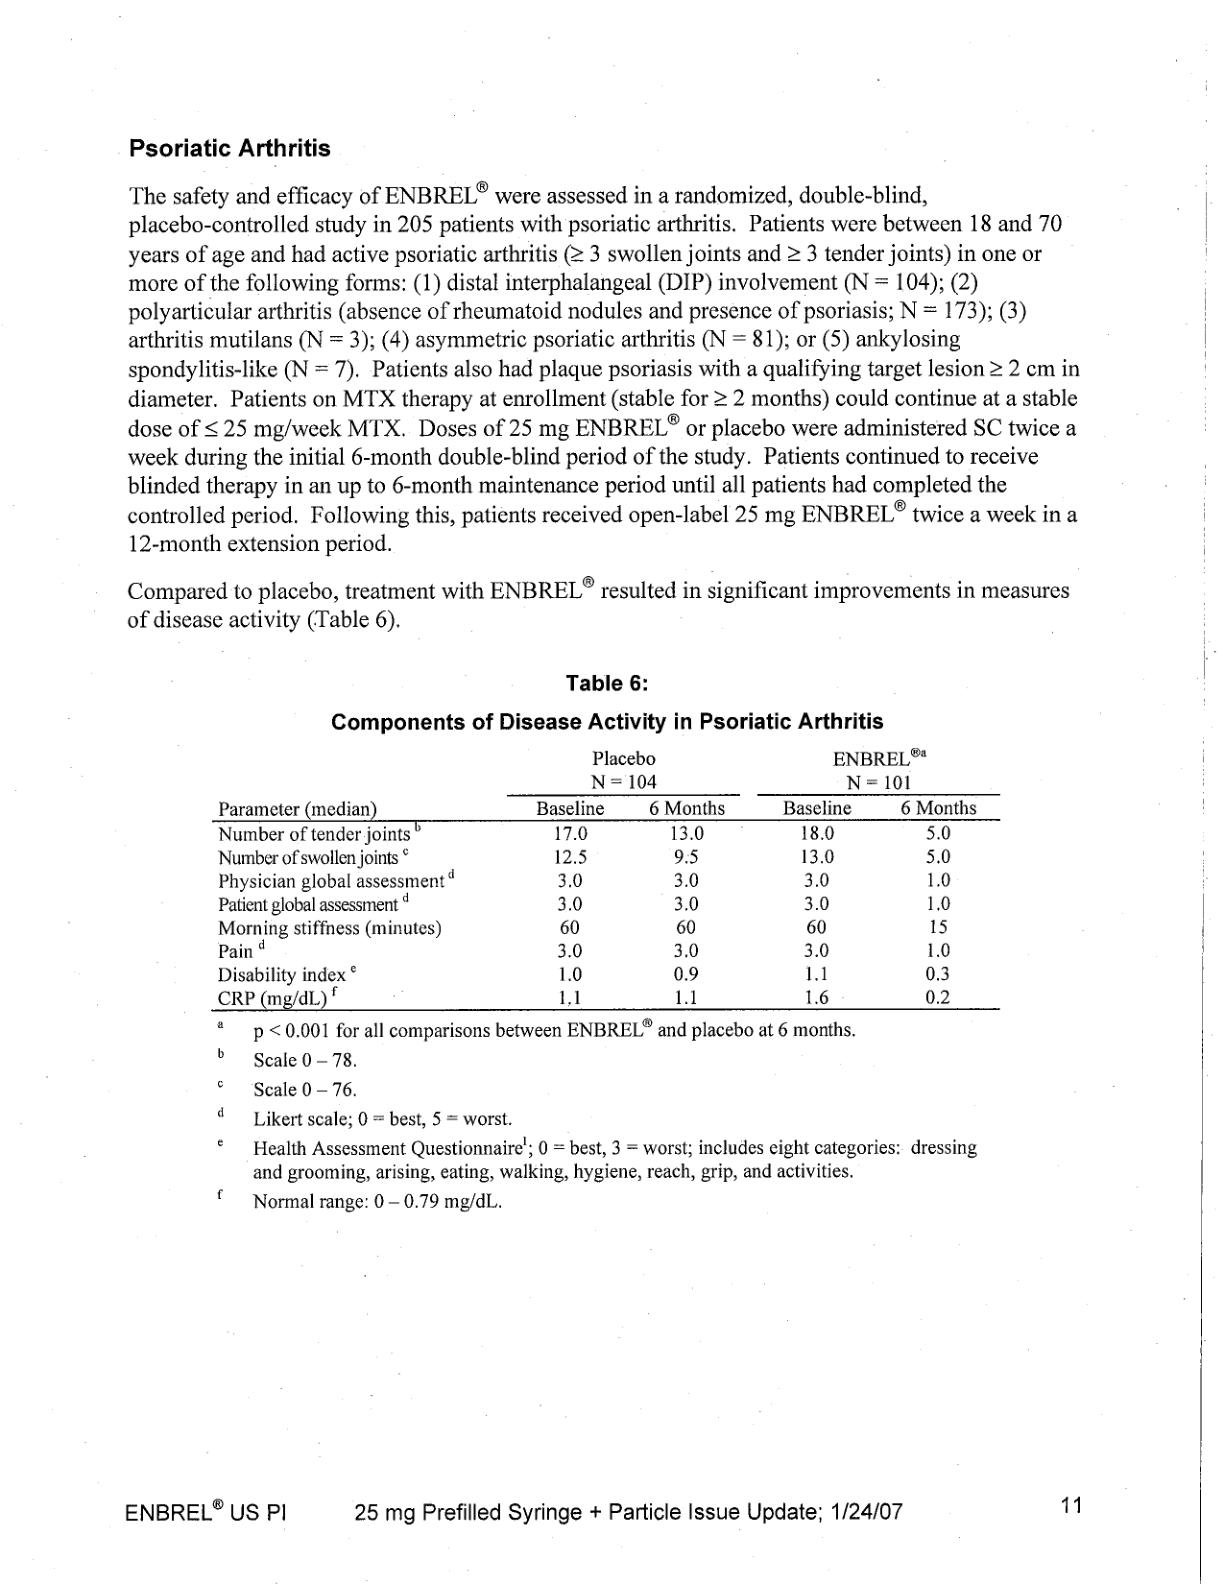partial_lined_merged_cells: (210, 746, 1003, 1013)
